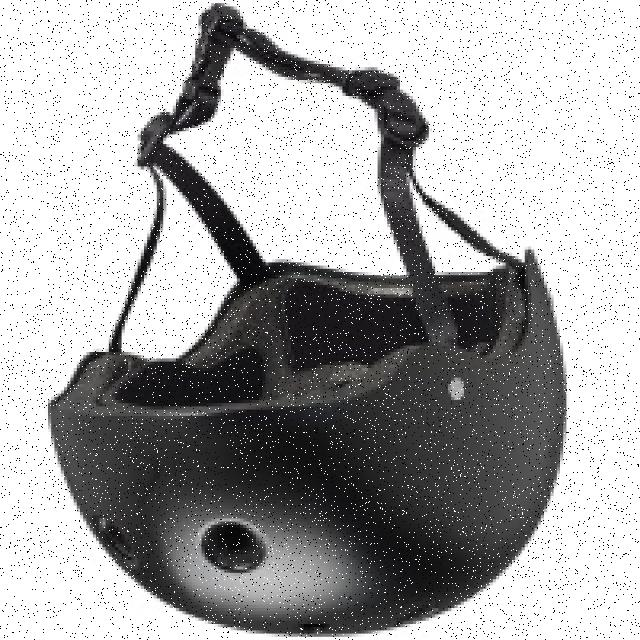Helmet: (22, 241, 574, 637)
